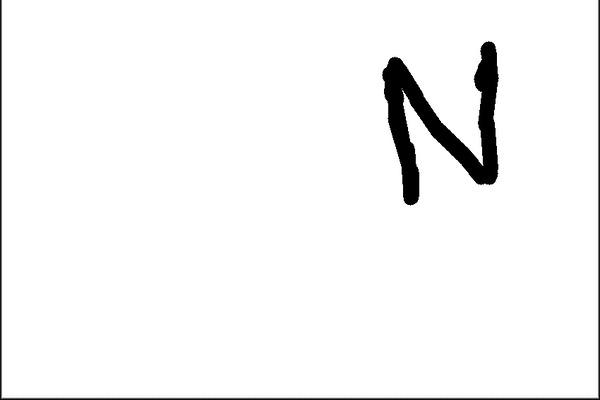N: (376, 33, 506, 208)
